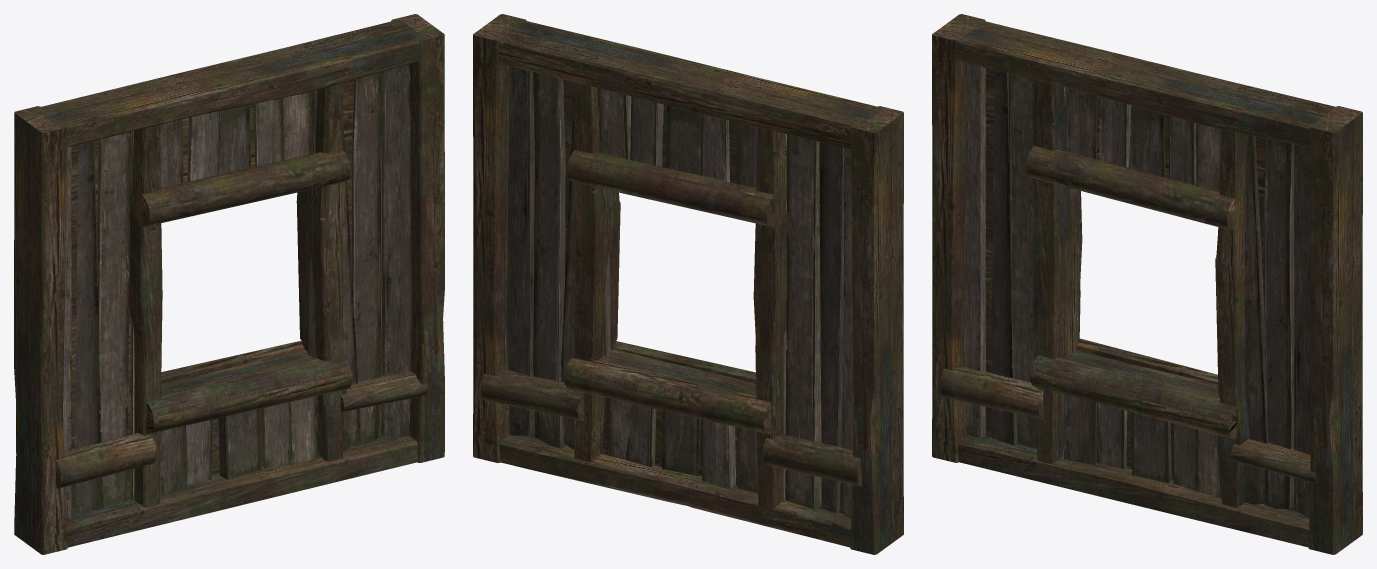
The picture shows the model from 3 angles, left to right: view 1: azimuth 30°, elevation 25°; view 2: azimuth 150°, elevation 25°; view 3: azimuth 330°, elevation 25°; orthographic projection.
Parts seen in each view (by area): view 1: SM_BB_T1_Wall_Large_Windowframe_LOD0; view 2: SM_BB_T1_Wall_Large_Windowframe_LOD0; view 3: SM_BB_T1_Wall_Large_Windowframe_LOD0.
Part boxes in pixels (x1,y1,x2,y2): SM_BB_T1_Wall_Large_Windowframe_LOD0: [14, 14, 444, 554]; SM_BB_T1_Wall_Large_Windowframe_LOD0: [473, 14, 903, 554]; SM_BB_T1_Wall_Large_Windowframe_LOD0: [932, 14, 1362, 554].
Size of the model in its own units: 3 by 3 by 0.5466.
2 materials, 2 textured.
